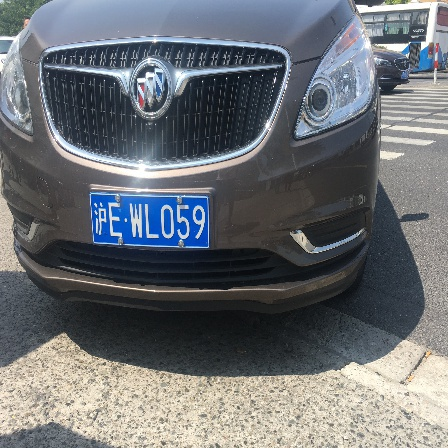plate: (83, 175, 217, 257)
